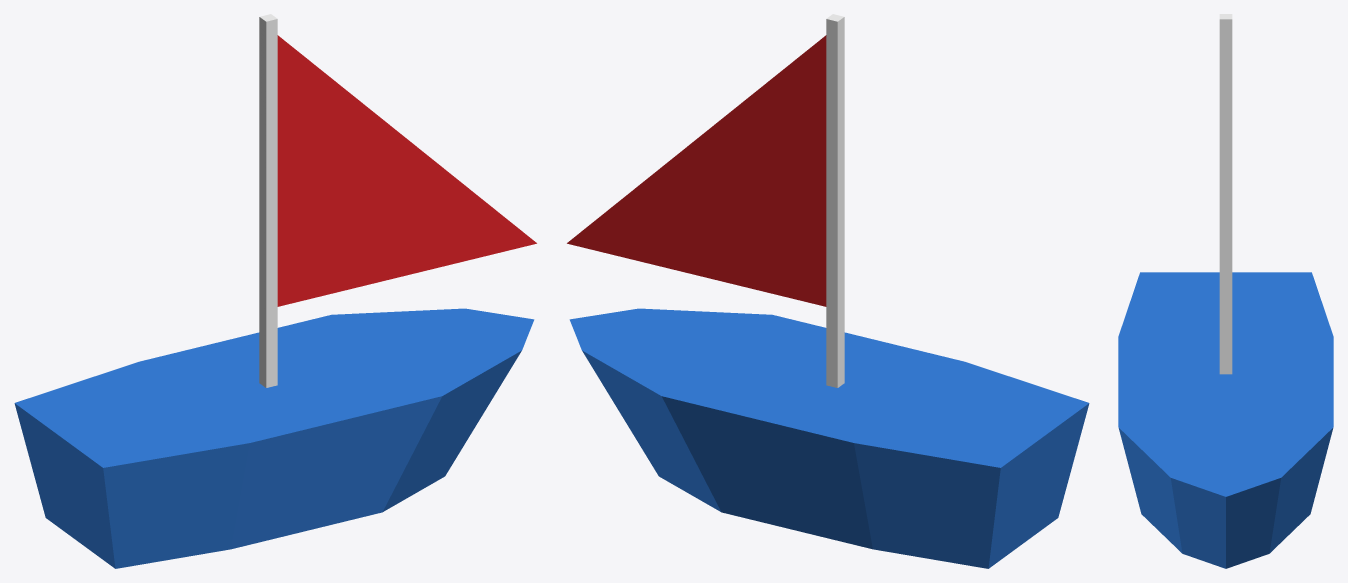
Rendered from ToyBoat_tex.fbx.
3 renders of one model, left to right at view 1: azimuth 30°, elevation 25°; view 2: azimuth 150°, elevation 25°; view 3: azimuth 270°, elevation 25°, orthographic. The views are drawn at different scales.
Visible parts, largest first — view 1: ToyBoat_tex; view 2: ToyBoat_tex; view 3: ToyBoat_tex.
Part boxes in pixels (left/top/right/bottom): ToyBoat_tex: left=14, top=14, right=536, bottom=568; ToyBoat_tex: left=567, top=14, right=1089, bottom=568; ToyBoat_tex: left=1118, top=14, right=1333, bottom=568.
Bounding box in the file's own units: 0.4168 × 0.3997 × 0.1678.
